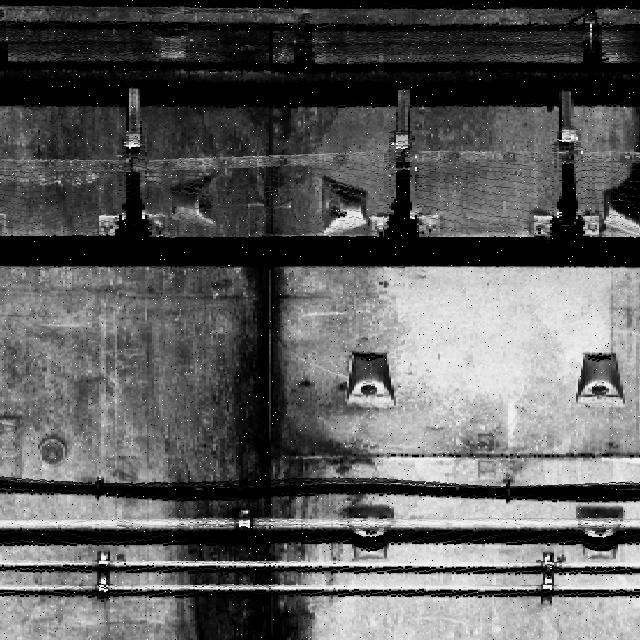leakage: (159, 267, 363, 640), (191, 1, 344, 238)
